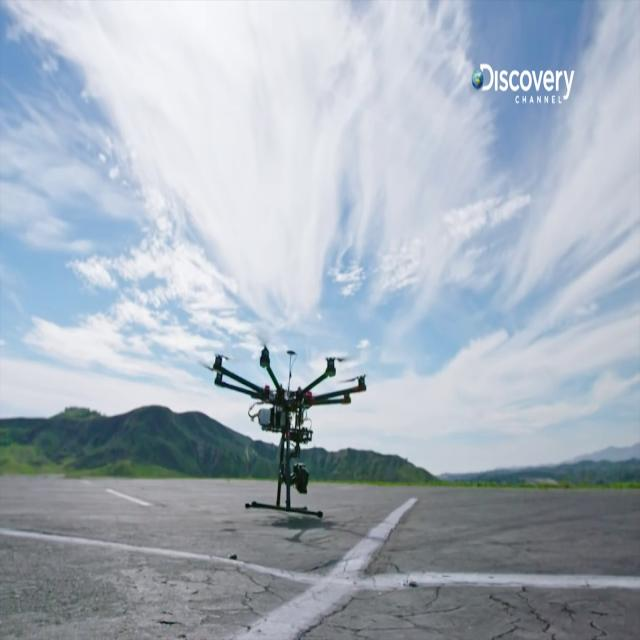drone: (204, 311, 374, 541)
